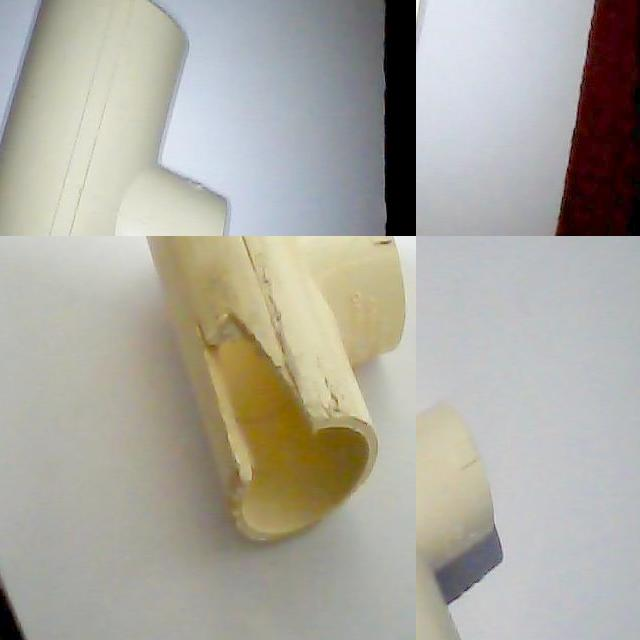Defective: (202, 312, 323, 482), (215, 340, 318, 462)
T Joint: (143, 236, 407, 541)
